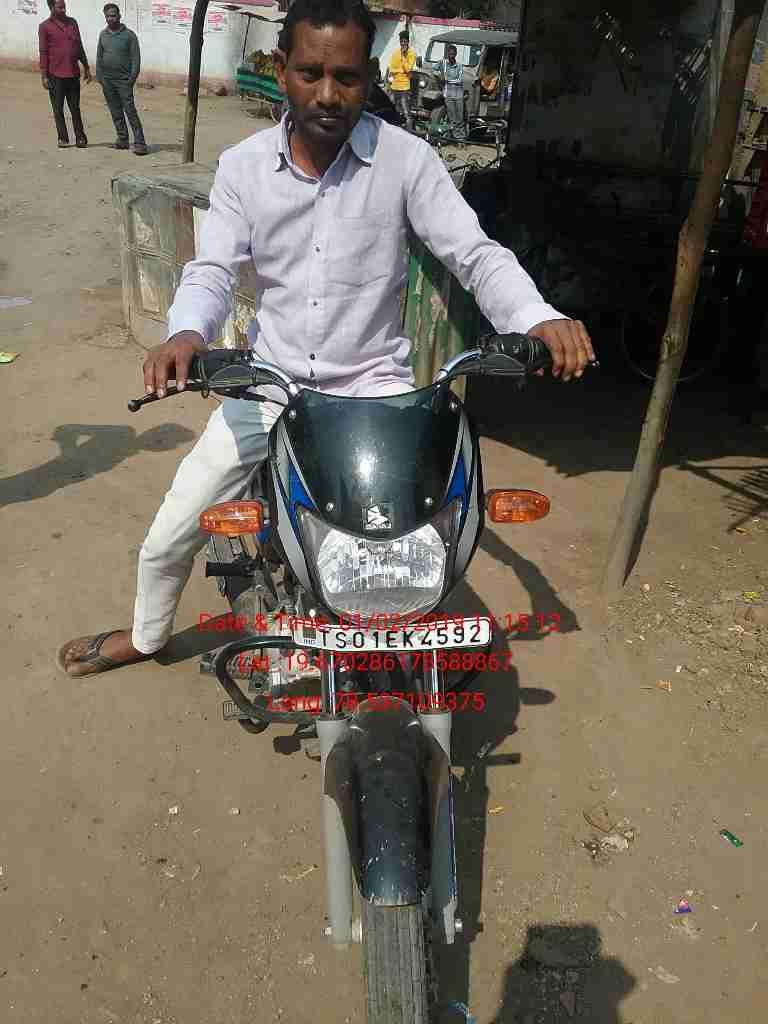plate: (288, 621, 496, 655)
